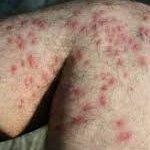Ants: (91, 64, 119, 94), (108, 26, 137, 50), (63, 82, 86, 105), (48, 53, 65, 74), (69, 114, 90, 130), (116, 129, 136, 145), (88, 13, 111, 25), (26, 53, 40, 72), (106, 45, 121, 62), (134, 24, 149, 41), (80, 103, 97, 115), (95, 92, 110, 105), (25, 30, 38, 45), (62, 20, 79, 30), (32, 18, 46, 30), (133, 55, 147, 67), (18, 98, 29, 113), (15, 34, 25, 49), (41, 73, 52, 86), (114, 118, 125, 129), (3, 22, 13, 34), (25, 75, 34, 88), (116, 58, 125, 70), (93, 37, 100, 50), (76, 49, 84, 60), (10, 63, 17, 75), (21, 19, 28, 29)
